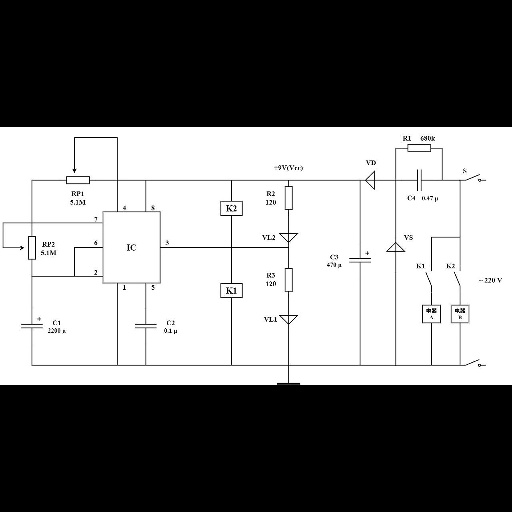capacitor: (282, 184, 299, 213), (411, 166, 426, 192), (133, 319, 159, 332)
firstpolarcapacitor: (346, 249, 375, 268), (19, 313, 45, 331)
firstresistance: (281, 264, 299, 295), (404, 142, 434, 155)
